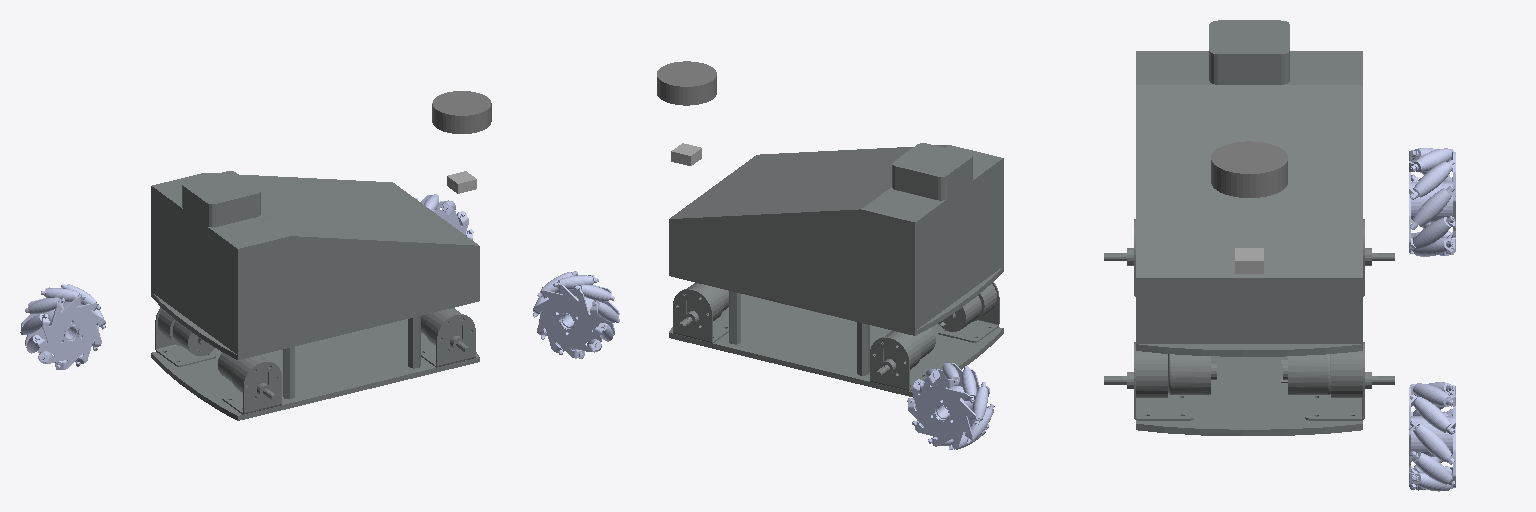
robot.urdf — bogie_description:
<?xml version="1.0" encoding="utf-8"?>
<!-- This URDF was automatically created by SolidWorks to URDF Exporter! Originally created by [author] ([email redacted]) 
     Commit Version: 1.6.0-4-g7f85cfe  Build Version: 1.6.7995.38578
     For more information, please see http://wiki.ros.org/sw_urdf_exporter -->
<robot
  name="bogie_description">
  <link name="base_footprint"/>
  <joint name="base_link_joint" type="fixed">
    <origin xyz="0.0 0.0 0.0" rpy="0 0 0"/>
    <parent link="base_footprint"/>
    <child link="base_link"/>
    <axis xyz="0.0 0.0 0.0"/>
  </joint>
  <link
    name="base_link">
    <inertial>
      <origin
        xyz="-0.0156 -2.5682E-18 0.09256"
        rpy="0 0 0" />
      <mass
        value="3.9475" />
      <inertia
        ixx="0.012826"
        ixy="-2.5056E-19"
        ixz="0.0028353"
        iyy="0.024071"
        iyz="-3.0546E-19"
        izz="0.026102" />
    </inertial>
    <visual>
      <origin
        xyz="0 0 0"
        rpy="0 0 0" />
      <geometry>
        <mesh
          filename="package://bogie_description/meshes/base_link.STL" />
      </geometry>
      <material
        name="">
        <color
          rgba="0.52941 0.54902 0.54902 1" />
      </material>
    </visual>
    <collision>
      <origin
        xyz="0 0 0"
        rpy="0 0 0" />
      <geometry>
        <mesh
          filename="package://bogie_description/meshes/base_link.STL" />
      </geometry>
    </collision>
  </link>
  <link
    name="wheel_1_link">
    <inertial>
      <origin
        xyz="-2.1645E-08 0.00016001 -1.065E-07"
        rpy="0 0 0" />
      <mass
        value="0.049567" />
      <inertia
        ixx="5.5979E-06"
        ixy="7.0496E-12"
        ixz="-3.8174E-12"
        iyy="7.5627E-06"
        iyz="6.331E-12"
        izz="5.5979E-06" />
    </inertial>
    <visual>
      <origin
        xyz="0 0 0"
        rpy="0 0 0" />
      <geometry>
        <mesh
          filename="package://bogie_description/meshes/wheel_1_link.STL" />
      </geometry>
      <material
        name="">
        <color
          rgba="0.79216 0.81961 0.93333 1" />
      </material>
    </visual>
    <collision>
      <origin
        xyz="0 0 0"
        rpy="0 0 0" />
      <geometry>
        <mesh
          filename="package://bogie_description/meshes/wheel_1_link.STL" />
      </geometry>
    </collision>
  </link>
  <joint
    name="wheel_1_joint"
    type="continuous">
    <origin
      xyz="0.19 0.125 0.021"
      rpy="0 0 0" />
    <parent
      link="base_link" />
    <child
      link="wheel_1_link" />
    <axis
      xyz="0 1 0" />
    <limit
      effort="10"
      velocity="10" />
    <dynamics
      damping="0.1"
      friction="0.1" />
  </joint>
  <link
    name="wheel_2_Link">
    <inertial>
      <origin
        xyz="3.094E-08 0.00012531 2.3359E-08"
        rpy="0 0 0" />
      <mass
        value="0.049561" />
      <inertia
        ixx="5.5972E-06"
        ixy="2.8674E-12"
        ixz="-6.0887E-12"
        iyy="7.5613E-06"
        iyz="1.7436E-12"
        izz="5.5972E-06" />
    </inertial>
    <visual>
      <origin
        xyz="0 0 0"
        rpy="0 0 0" />
      <geometry>
        <mesh
          filename="package://bogie_description/meshes/wheel_2_Link.STL" />
      </geometry>
      <material
        name="">
        <color
          rgba="0.79216 0.81961 0.93333 1" />
      </material>
    </visual>
    <collision>
      <origin
        xyz="0 0 0"
        rpy="0 0 0" />
      <geometry>
        <mesh
          filename="package://bogie_description/meshes/wheel_2_Link.STL" />
      </geometry>
    </collision>
  </link>
  <joint
    name="wheel_2_joint"
    type="continuous">
    <origin
      xyz="0.19 -0.125 0.021"
      rpy="0 0 0" />
    <parent
      link="base_link" />
    <child
      link="wheel_2_Link" />
    <axis
      xyz="0 -1 0" />
    <limit
      effort="10"
      velocity="10" />
    <dynamics
      damping="0.1"
      friction="0.1" />
  </joint>
  <link
    name="wheel_3_Link">
    <inertial>
      <origin
        xyz="3.094E-08 0.00012531 2.3358E-08"
        rpy="0 0 0" />
      <mass
        value="0.049561" />
      <inertia
        ixx="5.5972E-06"
        ixy="2.8674E-12"
        ixz="-6.0887E-12"
        iyy="7.5613E-06"
        iyz="1.7436E-12"
        izz="5.5972E-06" />
    </inertial>
    <visual>
      <origin
        xyz="0 0 0"
        rpy="0 0 0" />
      <geometry>
        <mesh
          filename="package://bogie_description/meshes/wheel_3_Link.STL" />
      </geometry>
      <material
        name="">
        <color
          rgba="0.79216 0.81961 0.93333 1" />
      </material>
    </visual>
    <collision>
      <origin
        xyz="0 0 0"
        rpy="0 0 0" />
      <geometry>
        <mesh
          filename="package://bogie_description/meshes/wheel_3_Link.STL" />
      </geometry>
    </collision>
  </link>
  <joint
    name="wheel_3_joint"
    type="continuous">
    <origin
      xyz="-0.19 0.125 0.021"
      rpy="0 0 0" />
    <parent
      link="base_link" />
    <child
      link="wheel_3_Link" />
    <axis
      xyz="0 1 0" />
    <limit
      effort="10"
      velocity="10" />
    <dynamics
      damping="0.1"
      friction="0.1" />
  </joint>
  <link
    name="wheel_4_Link">
    <inertial>
      <origin
        xyz="-2.1645E-08 0.00016001 -1.065E-07"
        rpy="0 0 0" />
      <mass
        value="0.049567" />
      <inertia
        ixx="5.5979E-06"
        ixy="7.0496E-12"
        ixz="-3.8174E-12"
        iyy="7.5627E-06"
        iyz="6.331E-12"
        izz="5.5979E-06" />
    </inertial>
    <visual>
      <origin
        xyz="0 0 0"
        rpy="0 0 0" />
      <geometry>
        <mesh
          filename="package://bogie_description/meshes/wheel_4_Link.STL" />
      </geometry>
      <material
        name="">
        <color
          rgba="0.79216 0.81961 0.93333 1" />
      </material>
    </visual>
    <collision>
      <origin
        xyz="0 0 0"
        rpy="0 0 0" />
      <geometry>
        <mesh
          filename="package://bogie_description/meshes/wheel_4_Link.STL" />
      </geometry>
    </collision>
  </link>
  <joint
    name="wheel_4_joint"
    type="continuous">
    <origin
      xyz="-0.19 -0.125 0.021"
      rpy="0 0 0" />
    <parent
      link="base_link" />
    <child
      link="wheel_4_Link" />
    <axis
      xyz="0 -1 0" />
    <limit
      effort="10"
      velocity="10" />
    <dynamics
      damping="0.1"
      friction="0.1" />
  </joint>
  <link
    name="base_laser_Link">
    <inertial>
      <origin
        xyz="0 0 0.0091"
        rpy="0 0 0" />
      <mass
        value="0.040153" />
      <inertia
        ixx="8.1576E-06"
        ixy="4.4841E-38"
        ixz="-1.2847E-22"
        iyy="8.1576E-06"
        iyz="4.2244E-38"
        izz="1.4099E-05" />
    </inertial>
    <visual>
      <origin
        xyz="0 0 0"
        rpy="0 0 0" />
      <geometry>
        <mesh
          filename="package://bogie_description/meshes/base_laser_Link.STL" />
      </geometry>
      <material
        name="">
        <color
          rgba="0.53725 0.53725 0.53725 1" />
      </material>
    </visual>
    <collision>
      <origin
        xyz="0 0 0"
        rpy="0 0 0" />
      <geometry>
        <mesh
          filename="package://bogie_description/meshes/base_laser_Link.STL" />
      </geometry>
    </collision>
  </link>
  <joint
    name="base_laser_joint"
    type="fixed">
    <origin
      xyz="0.15 0 0.195"
      rpy="0 0 0" />
    <parent
      link="base_link" />
    <child
      link="base_laser_Link" />
    <axis
      xyz="0 0 0" />
  </joint>

<link name="imu_link">
  <inertial>
    <origin xyz="0.0 0.0 -0.0050000000000000044" rpy="0 0 0"/>
    <mass value="0.0037199999999999998"/>
    <inertia ixx="0.0" iyy="0.0" izz="0.0" ixy="0.0" iyz="0.0" ixz="0.0"/>
  </inertial>
  <visual>
    <origin xyz="0.095 -0.0 -0.2875" rpy="0 0 0"/>
    <geometry>
      <mesh filename="package://bogie_description/meshes/imu_link.STL" scale="0.001 0.001 0.001"/>
    </geometry>
    <material name="silver"/>
  </visual>
  <collision>
    <origin xyz="0.095 -0.0 -0.2875" rpy="0 0 0"/>
    <geometry>
      <mesh filename="package://bogie_description/meshes/imu_link.STL" scale="0.001 0.001 0.001"/>
    </geometry>
  </collision>
</link>

  <joint
    name="imu_joint"
    type="fixed">
    <origin
      xyz="0.15 0 0.14"
      rpy="0 0 0" />
    <parent
      link="base_link" />
    <child
      link="imu_link" />
    <axis
      xyz="0 0 0" />
  </joint>
</robot>

--- Render facts (derived) ---
The picture shows the robot from 3 angles, left to right: view 1: azimuth 30°, elevation 25°; view 2: azimuth 150°, elevation 25°; view 3: azimuth 270°, elevation 25°; orthographic projection.
Robot: bogie_description — 8 links, 7 joints (4 continuous, 3 fixed); root link base_footprint; default pose: all joints at 0.
Visible links, largest first — view 1: base_link, wheel_3_Link, base_laser_Link, wheel_1_link; view 2: base_link, wheel_3_Link, wheel_1_link, base_laser_Link, imu_link; view 3: base_link, wheel_1_link, wheel_3_Link, base_laser_Link, imu_link.
Boxes of the visible links, x1,y1,x2,y2 form: base_link: (151, 171, 479, 420); wheel_3_Link: (20, 284, 105, 369); base_laser_Link: (432, 91, 491, 133); wheel_1_link: (415, 194, 473, 239); base_link: (669, 143, 1003, 397); wheel_3_Link: (907, 363, 994, 449); wheel_1_link: (533, 271, 619, 358); base_laser_Link: (657, 61, 716, 105); imu_link: (671, 143, 701, 165); base_link: (1104, 20, 1394, 435); wheel_1_link: (1409, 382, 1455, 491); wheel_3_Link: (1409, 148, 1455, 256); base_laser_Link: (1211, 141, 1287, 197); imu_link: (1235, 248, 1263, 273).
Bounding box of the posed robot: 0.4546 × 0.2404 × 0.2297 m (x, y, z).
Meshes: 7 distinct files referenced, 5 mesh visuals loaded (5 binary STL); not drawn: 2 (reference not matched to a file when rendering).